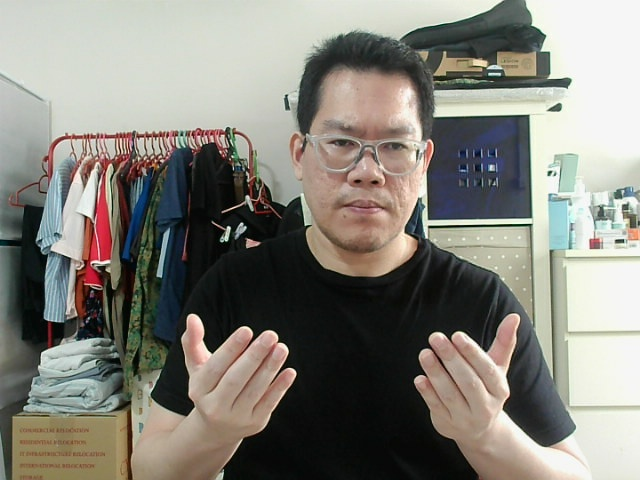want: (420, 318, 512, 433)
